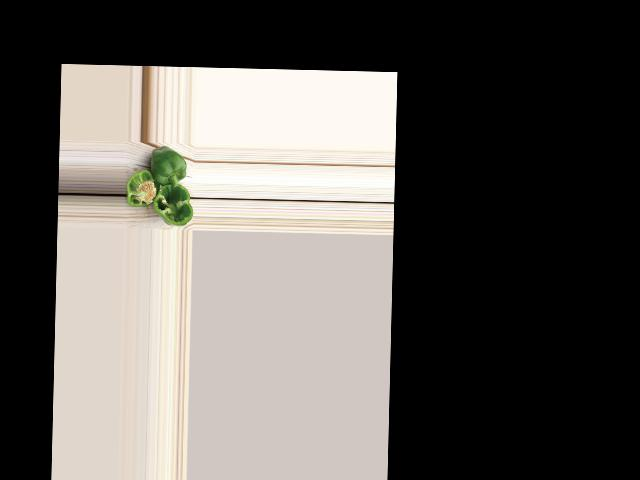bell_pepper: (125, 166, 159, 215)
